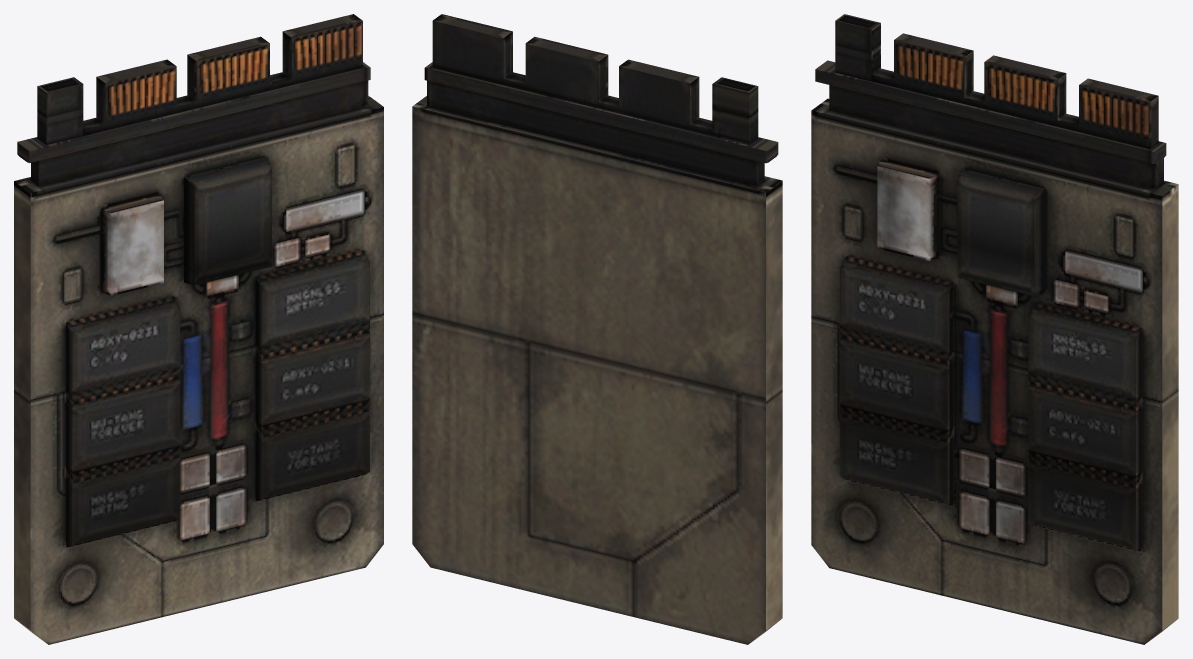
The model's file is audio_logger_flesher_mem_chip.DAE.
3 renders of one model, left to right at view 1: azimuth 30°, elevation 25°; view 2: azimuth 150°, elevation 25°; view 3: azimuth 330°, elevation 25°, orthographic.
Visible parts, largest first — view 1: chipn_; view 2: chipn_; view 3: chipn_.
Part boxes in pixels (x1,y1,x2,y2): chipn_: (14,14,383,644); chipn_: (412,14,782,644); chipn_: (811,14,1178,644).
Size of the model in its own units: 17.58 by 2.16 by 26.08.
